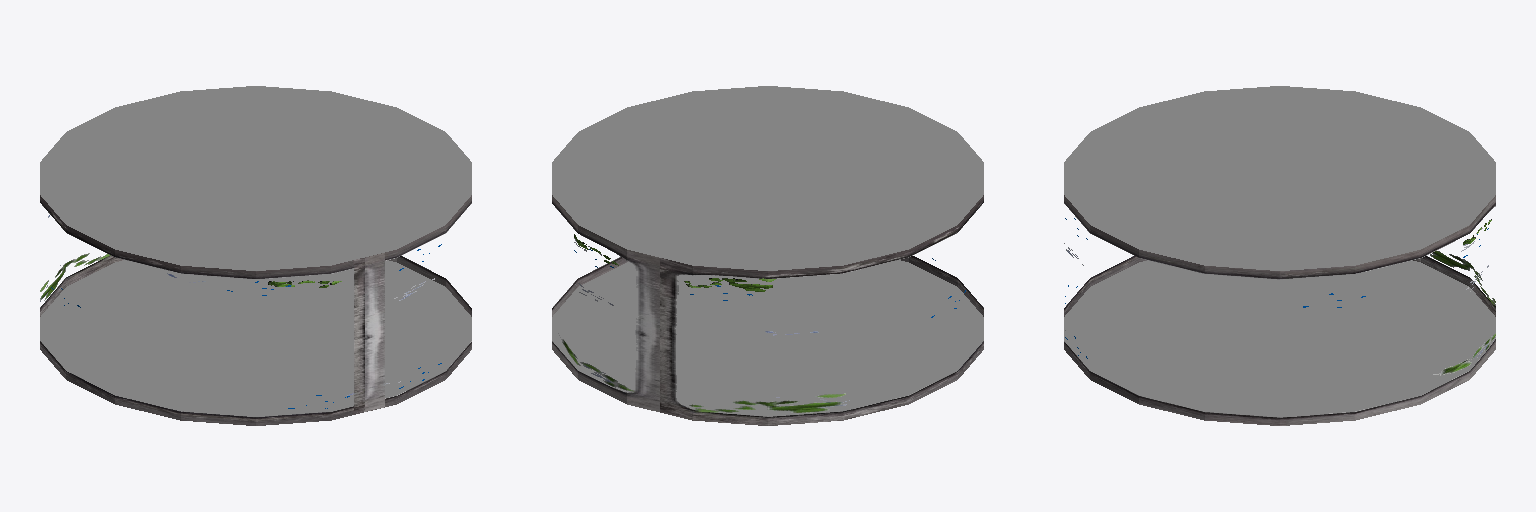
The picture shows the model from 3 angles: view 1: azimuth 30°, elevation 25°; view 2: azimuth 150°, elevation 25°; view 3: azimuth 270°, elevation 25°; orthographic projection.
Visible parts, largest first — view 1: tapa, piso, Cylinder001; view 2: tapa, piso, Cylinder001; view 3: tapa, piso, Cylinder001.
Part boxes in pixels (left/top/right/bottom): tapa: left=40, top=86, right=471, bottom=270; piso: left=40, top=260, right=471, bottom=416; Cylinder001: left=40, top=195, right=471, bottom=425; tapa: left=552, top=86, right=983, bottom=270; piso: left=552, top=260, right=983, bottom=416; Cylinder001: left=552, top=195, right=983, bottom=425; tapa: left=1064, top=86, right=1495, bottom=270; piso: left=1064, top=260, right=1495, bottom=416; Cylinder001: left=1064, top=195, right=1495, bottom=425.
Bounding box in the file's own units: 79.95 × 31.14 × 78.73.
Materials: 3 (1 with a texture image).